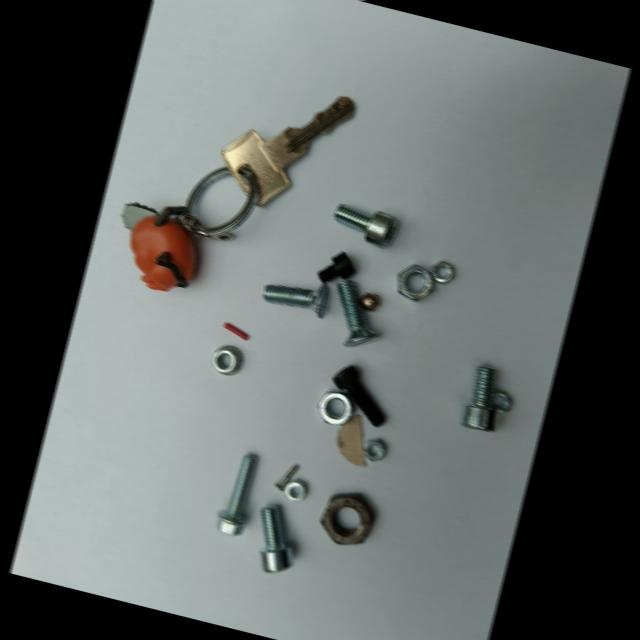bolt: (216, 452, 258, 534), (332, 364, 386, 426), (336, 279, 379, 346), (334, 203, 398, 247), (262, 282, 330, 318), (460, 365, 496, 430), (259, 504, 293, 572), (317, 251, 355, 283), (275, 463, 299, 490)
nuts: (320, 492, 374, 544), (317, 388, 354, 424), (397, 264, 433, 299), (212, 344, 244, 374), (283, 477, 308, 501), (428, 260, 454, 283), (362, 437, 387, 460), (488, 389, 511, 413), (360, 291, 381, 311)
